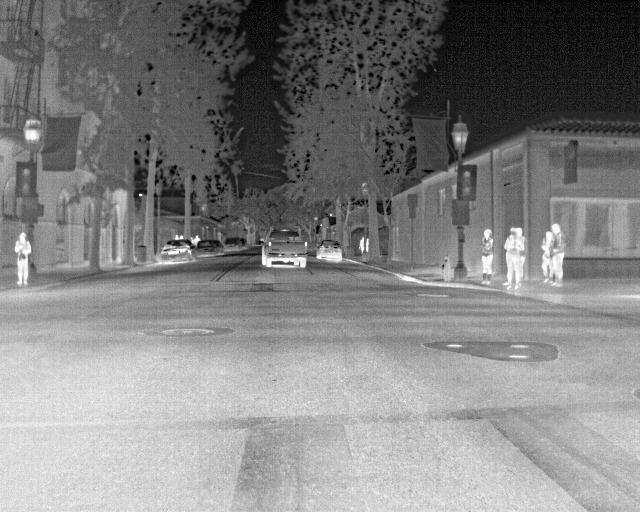bicycle: (256, 223, 308, 270), (156, 238, 193, 261), (315, 239, 344, 262), (193, 239, 225, 258), (224, 236, 246, 252)
empty: (547, 223, 567, 285), (12, 230, 34, 285), (511, 225, 528, 289), (501, 225, 518, 286), (479, 227, 496, 287), (539, 232, 554, 285), (355, 234, 367, 256)
